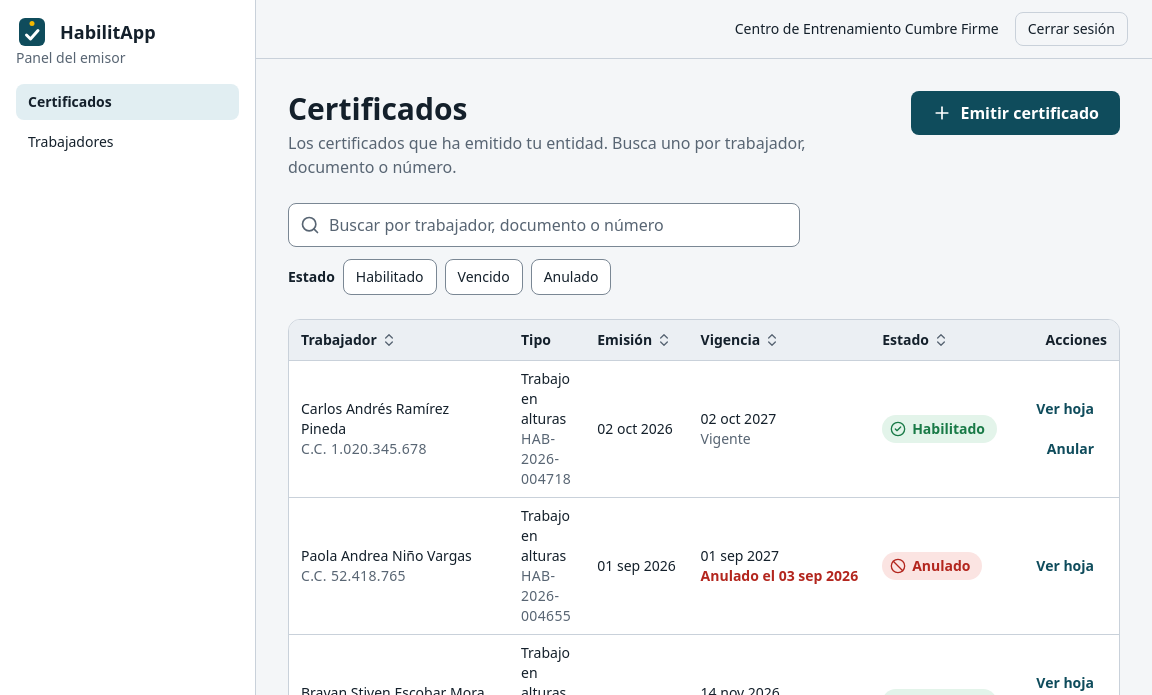
Scenario: CertificatesPage › searches by worker ignoring accents and updates the count
This screenshot has width=1152, height=695.
Type "ramirez" into the search field named "Buscar certificados" at (544, 225), box [288,203,800,247]
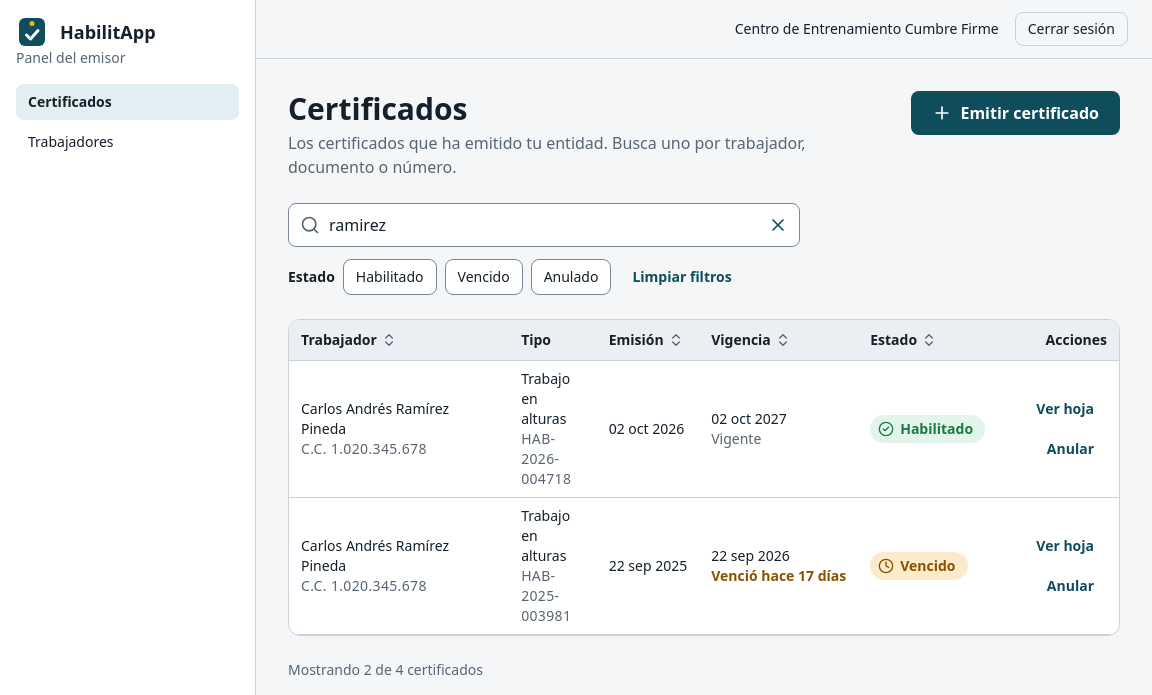
Expected: the text "Mostrando 2 de 4 certificados" is shown, [288,660,483,678]
